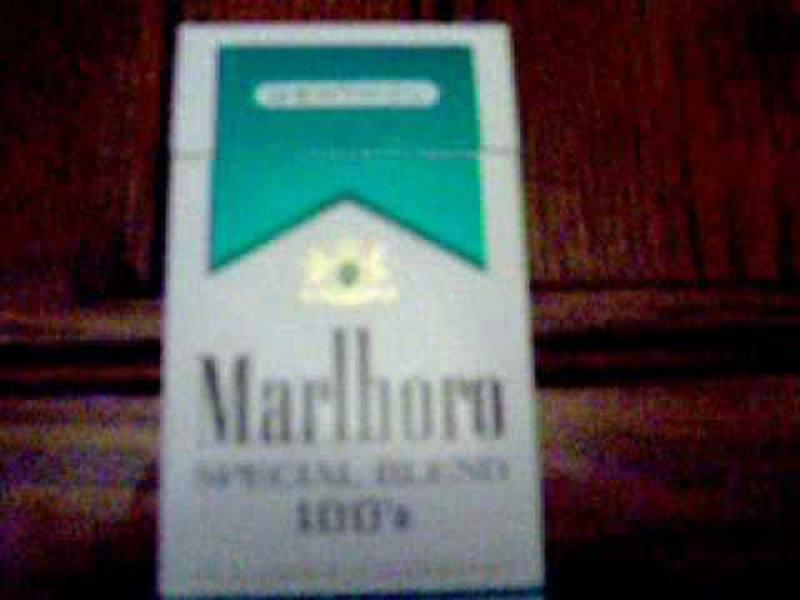marlboro_mentol: (174, 25, 507, 590)
